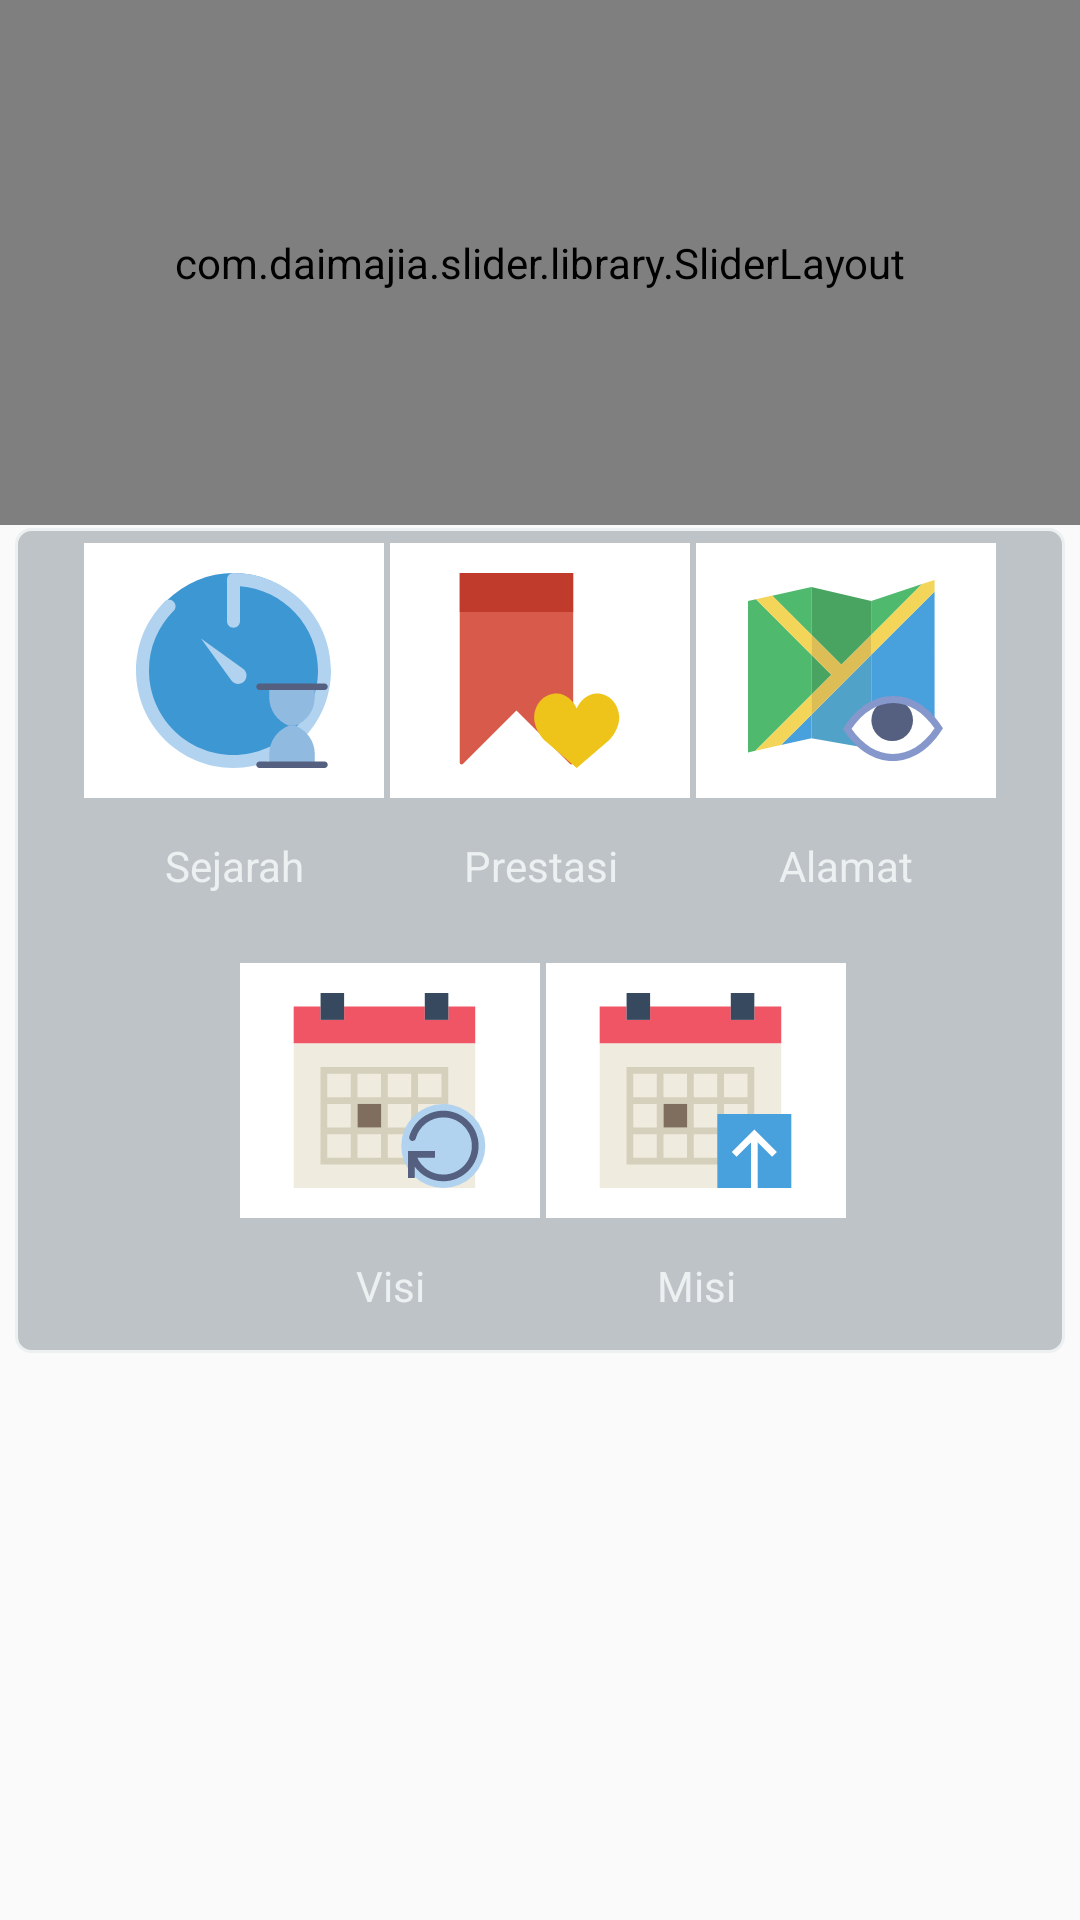

Locate icon controls on the screen. Image size 1080 x 1920, boxes as [left=x1, top=y1, right=x2, bottom=y2].
bookmark: [left=459, top=573, right=620, bottom=768]
calendar: [left=293, top=993, right=485, bottom=1188], [left=599, top=993, right=792, bottom=1188]
map: [left=748, top=580, right=943, bottom=761]
stopwatch: [left=136, top=573, right=331, bottom=768]
